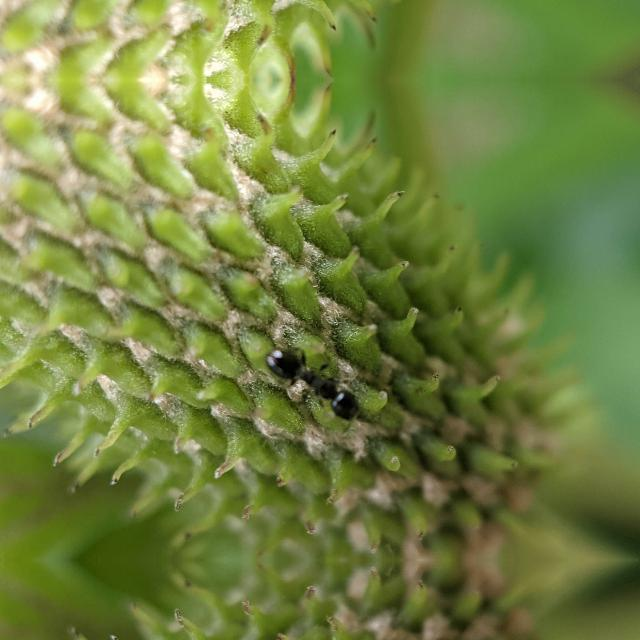Temnothorax: (267, 316, 388, 432)
